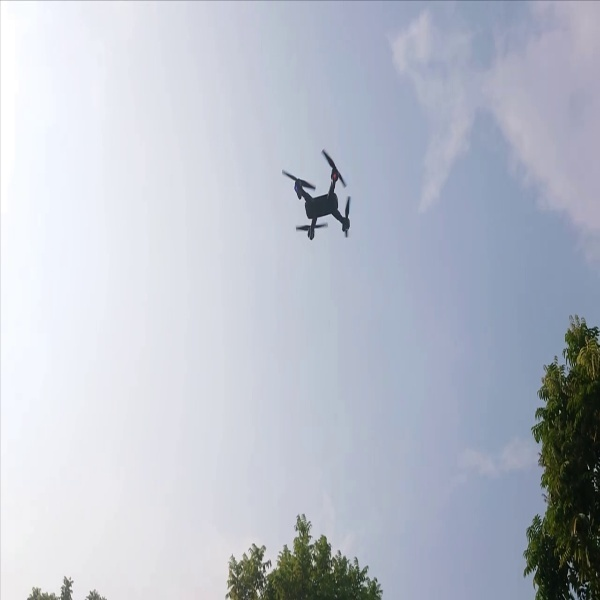drone: (277, 151, 366, 247)
